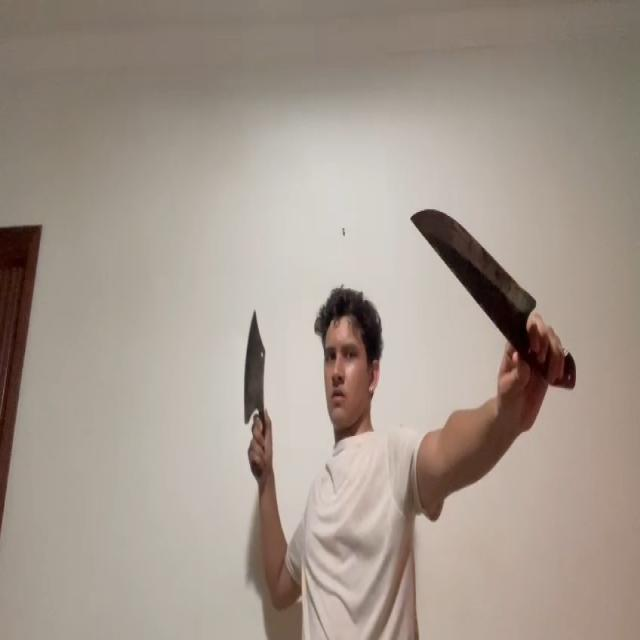knife: (410, 208, 537, 322), (244, 310, 266, 420)
